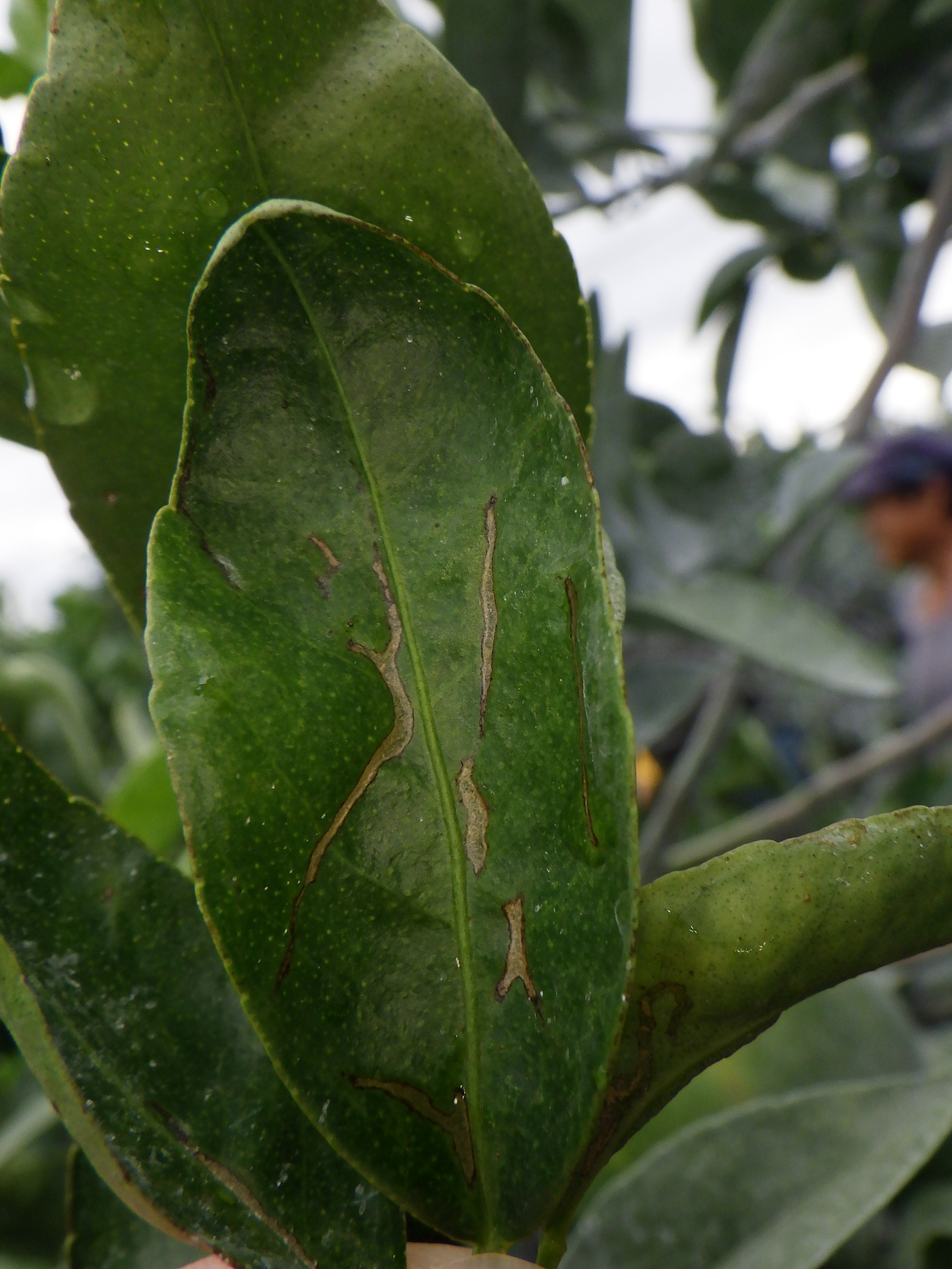Thrips_Damage: (278, 494, 537, 1006)
